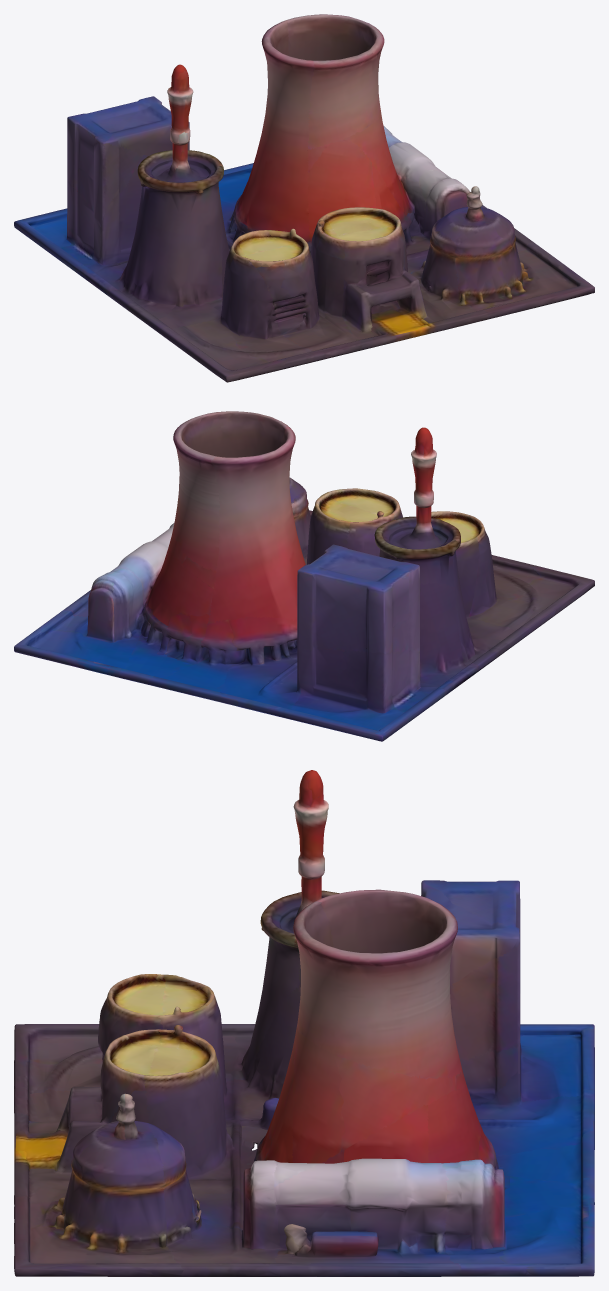
Rendered from guild_energy_plant.glb.
The picture shows the model from 3 angles, top to bottom: view 1: azimuth 30°, elevation 25°; view 2: azimuth 150°, elevation 25°; view 3: azimuth 270°, elevation 25°; orthographic projection. The views are drawn at different scales.
Parts seen in each view (by area): view 1: tripo_node_40464abb-6598-4b54-9477-78f40a71c39e; view 2: tripo_node_40464abb-6598-4b54-9477-78f40a71c39e; view 3: tripo_node_40464abb-6598-4b54-9477-78f40a71c39e.
Boxes of the visible parts, x1,y1,x2,y2 form: tripo_node_40464abb-6598-4b54-9477-78f40a71c39e: (14,14,594,382); tripo_node_40464abb-6598-4b54-9477-78f40a71c39e: (14,411,594,741); tripo_node_40464abb-6598-4b54-9477-78f40a71c39e: (14,770,594,1276).
Size of the model in its own units: 0.9489 by 0.5507 by 0.9494.
1 material, 1 textured.
